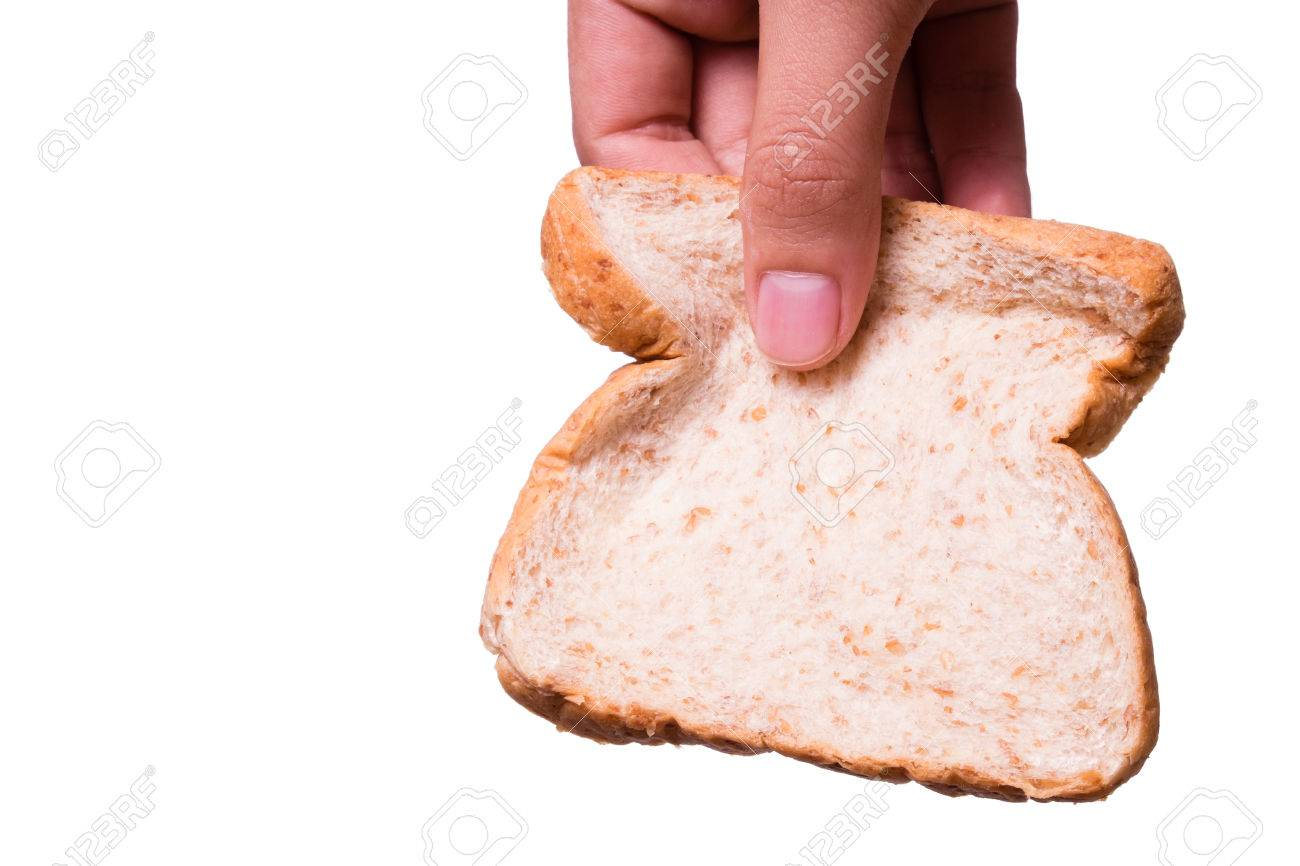slice of bread: (537, 173, 1160, 806)
